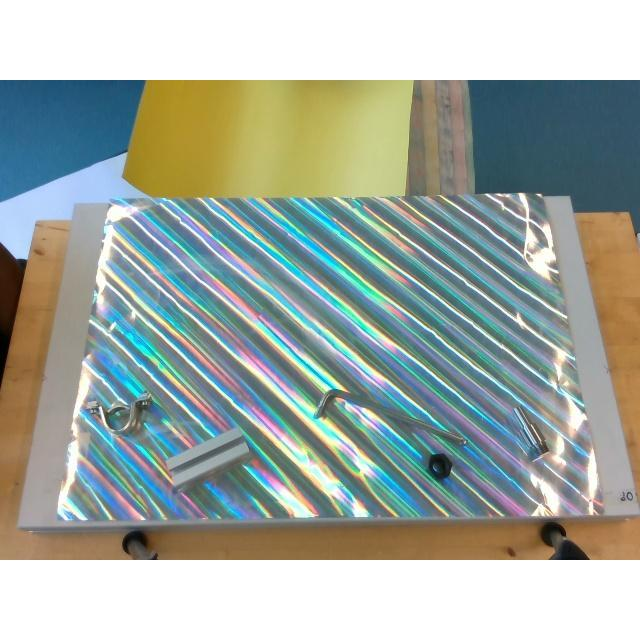AllenKey: (314, 388, 470, 444)
Axis2: (513, 404, 549, 460)
Housing: (85, 392, 152, 434)
M20: (428, 453, 452, 481)
S40_40_G: (164, 426, 252, 490)
